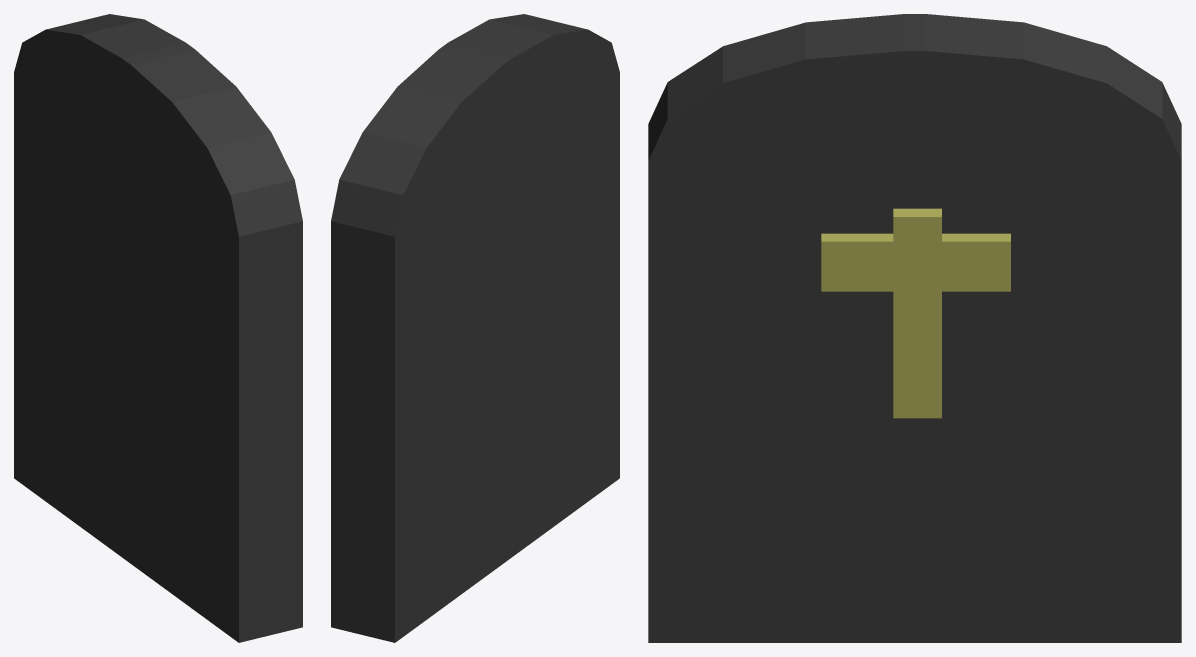
The model's file is secreto2.gltf.
3 renders of one model, left to right at view 1: azimuth 30°, elevation 25°; view 2: azimuth 150°, elevation 25°; view 3: azimuth 270°, elevation 25°, orthographic. The views are drawn at different scales.
Visible parts, largest first — view 1: Cube; view 2: Cube; view 3: Cube.
Boxes of the visible parts, x1=… form: Cube: x1=14, y1=14, x2=302, y2=642; Cube: x1=331, y1=14, x2=619, y2=642; Cube: x1=648, y1=14, x2=1181, y2=642.
Bounding box in the file's own units: 0.1982 × 1.21 × 0.9845.
